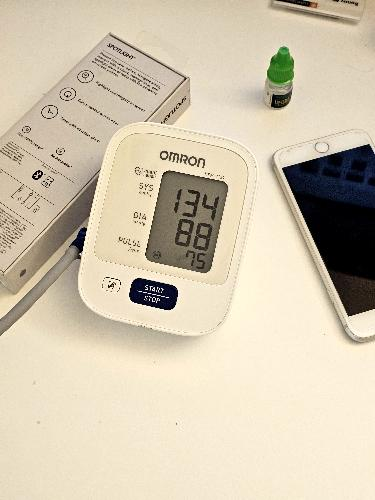bpm: (141, 166, 233, 277)
